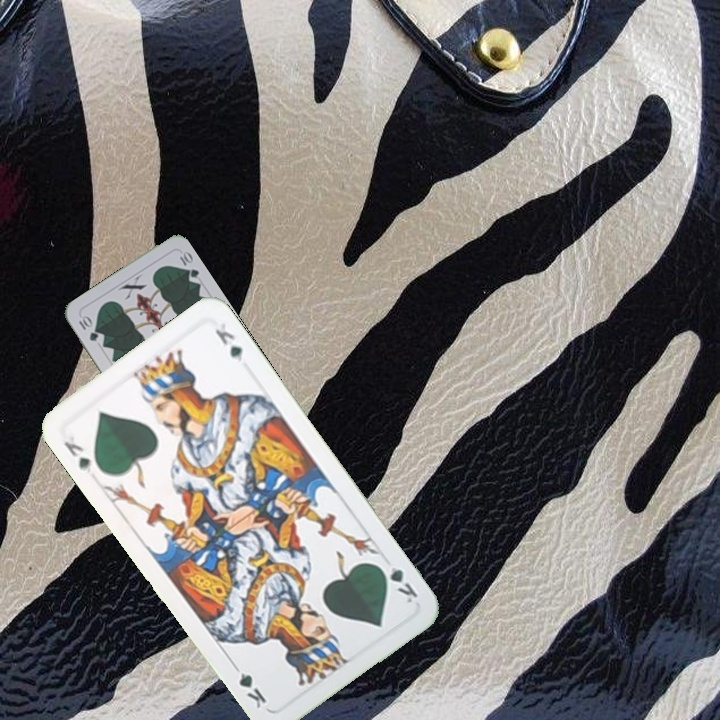G10: (74, 312, 101, 344)
GK: (373, 560, 420, 606), (59, 431, 94, 476)
